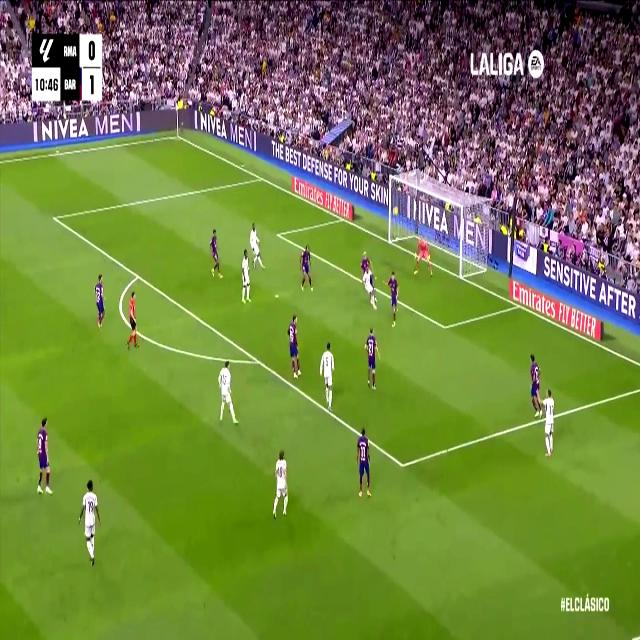bigarea_bottom_inner: (396, 450, 408, 479)
bigarea_top_inner: (50, 207, 59, 227)
bigarea_top_outter: (257, 170, 265, 184)
bottom_arc_area_intersection: (253, 350, 263, 370)
corner: (172, 129, 182, 141)
smallarea_bottom_inner: (440, 317, 449, 337)
smallarea_top_inner: (276, 228, 282, 241)
top_arc_area_intersection: (134, 266, 142, 284)
